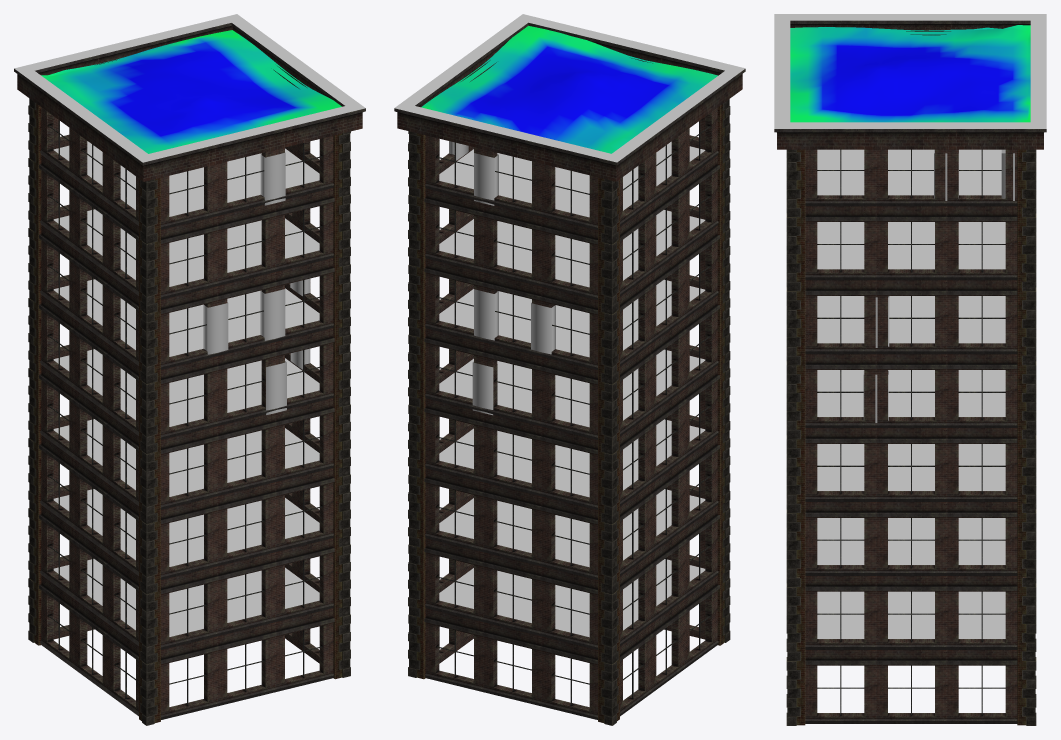
File: BuildingRedSm02.fbx
3 views of the same model, side by side, from view 1: azimuth 30°, elevation 25°; view 2: azimuth 150°, elevation 25°; view 3: azimuth 270°, elevation 25° (orthographic). The views are drawn at different scales.
Visible parts, largest first — view 1: Cube.008, Cube.009, Cube.068, Cube.001, Plane.020, Plane.021, Plane.010, Plane.013, Plane.011, Plane.012, Plane.014, Cube.072 (+3 smaller); view 2: Cube.008, Cube.009, Cube.068, Cube.001, Plane.020, Plane.021, Plane.010, Plane.013, Plane.011, Plane.012, Plane.014, Cube.078 (+3 smaller); view 3: Cube.008, Cube.009, Cube.068, Cube.001, Plane.020, Plane.013, Plane.021, Plane.012, Plane.010, Plane.011, Plane.014.
Boxes of the visible parts, bbox=[...] form: Cube.008: bbox=[39, 59, 334, 719]; Cube.009: bbox=[28, 98, 350, 725]; Cube.068: bbox=[41, 30, 341, 153]; Cube.001: bbox=[14, 14, 365, 181]; Plane.020: bbox=[53, 559, 319, 636]; Plane.021: bbox=[53, 489, 319, 566]; Plane.010: bbox=[53, 419, 319, 496]; Plane.013: bbox=[53, 209, 319, 286]; Plane.011: bbox=[53, 349, 319, 426]; Plane.012: bbox=[53, 279, 319, 356]; Plane.014: bbox=[53, 141, 319, 216]; Cube.072: bbox=[260, 289, 285, 340]; Cube.008: bbox=[424, 58, 719, 719]; Cube.009: bbox=[408, 99, 730, 725]; Cube.068: bbox=[421, 25, 717, 153]; Cube.001: bbox=[394, 14, 745, 181]; Plane.020: bbox=[439, 559, 705, 637]; Plane.021: bbox=[439, 489, 705, 567]; Plane.010: bbox=[439, 419, 705, 497]; Plane.013: bbox=[439, 210, 705, 287]; Plane.011: bbox=[439, 349, 705, 427]; Plane.012: bbox=[439, 279, 705, 357]; Plane.014: bbox=[439, 141, 705, 217]; Cube.078: bbox=[531, 302, 555, 354]; Cube.008: bbox=[796, 31, 1026, 723]; Cube.009: bbox=[786, 149, 1036, 725]; Cube.068: bbox=[790, 25, 1030, 122]; Cube.001: bbox=[774, 14, 1046, 149]; Plane.020: bbox=[817, 591, 1005, 638]; Plane.013: bbox=[817, 222, 1005, 269]; Plane.021: bbox=[817, 518, 1005, 564]; Plane.012: bbox=[817, 296, 1005, 343]; Plane.010: bbox=[817, 444, 1005, 490]; Plane.011: bbox=[817, 370, 1005, 416]; Plane.014: bbox=[817, 149, 1001, 195].
Size of what is drawn, in the model's own units: 1360 by 3334 by 1360.
